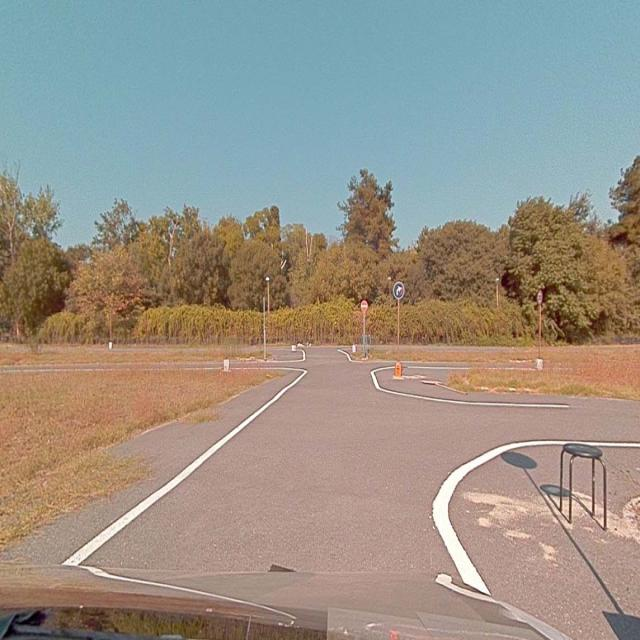girisyok: (361, 300, 367, 311)
sag: (393, 282, 404, 298)
